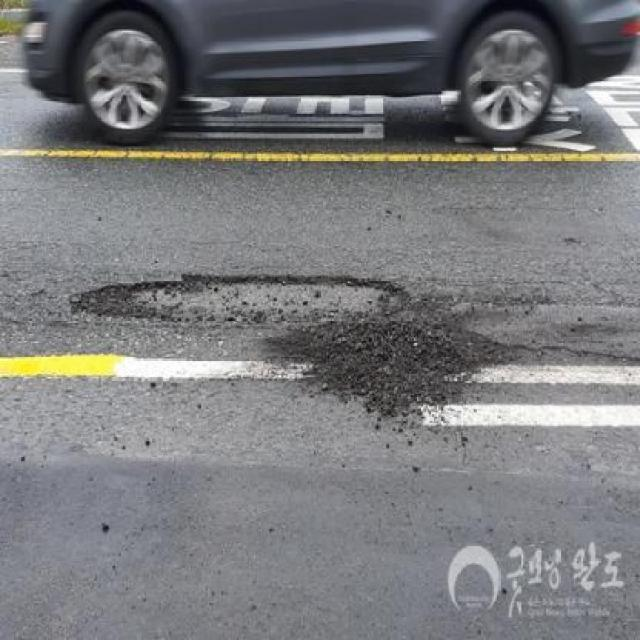Pothole: (68, 265, 418, 326)
